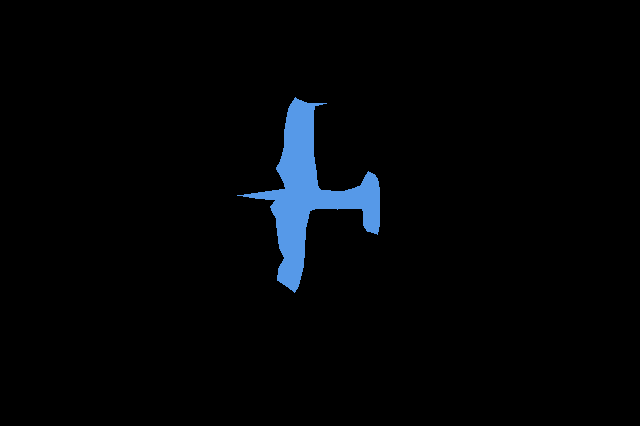Airplane: (237, 97, 379, 292)
